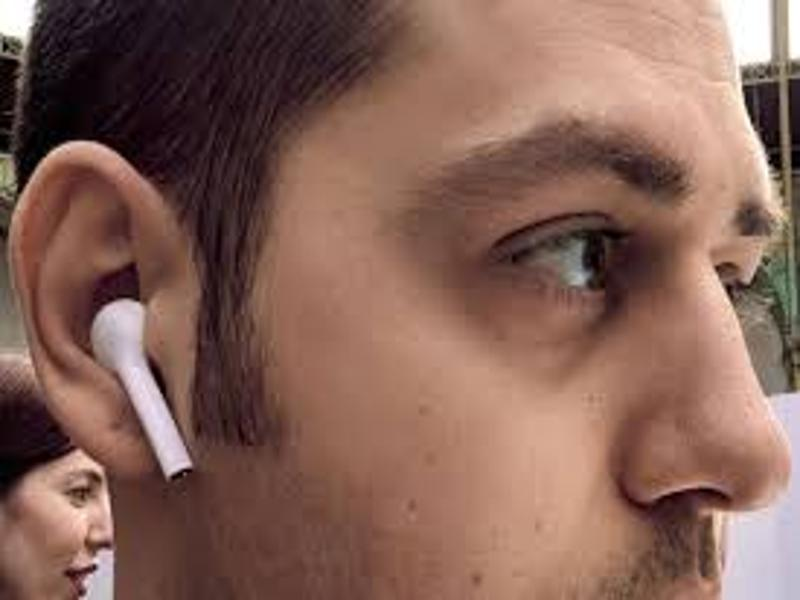headphone: (83, 291, 200, 484)
